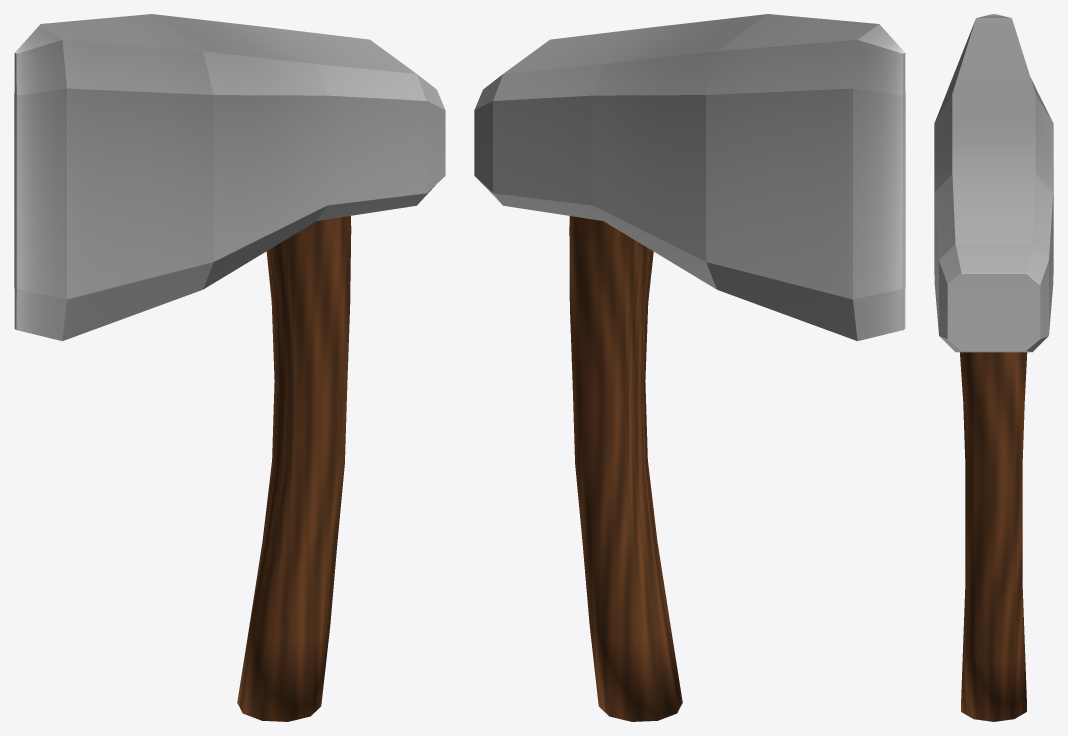
Rendered from axe.glb.
3 renders of one model, left to right at view 1: azimuth 30°, elevation 25°; view 2: azimuth 150°, elevation 25°; view 3: azimuth 270°, elevation 25°, orthographic. The views are drawn at different scales.
Parts seen in each view (by area): view 1: AxeBlade, RecoveredHandle; view 2: AxeBlade, RecoveredHandle; view 3: AxeBlade, RecoveredHandle.
Part boxes in pixels (x1=…): AxeBlade: x1=14, y1=14, x2=445, y2=341; RecoveredHandle: x1=237, y1=216, x2=351, y2=721; AxeBlade: x1=474, y1=14, x2=905, y2=341; RecoveredHandle: x1=569, y1=216, x2=682, y2=721; AxeBlade: x1=934, y1=14, x2=1053, y2=352; RecoveredHandle: x1=960, y1=352, x2=1027, y2=721.
Bounding box in the file's own units: 0.9014 × 1.56 × 0.2825.
Materials: 2 (2 with a texture image).
